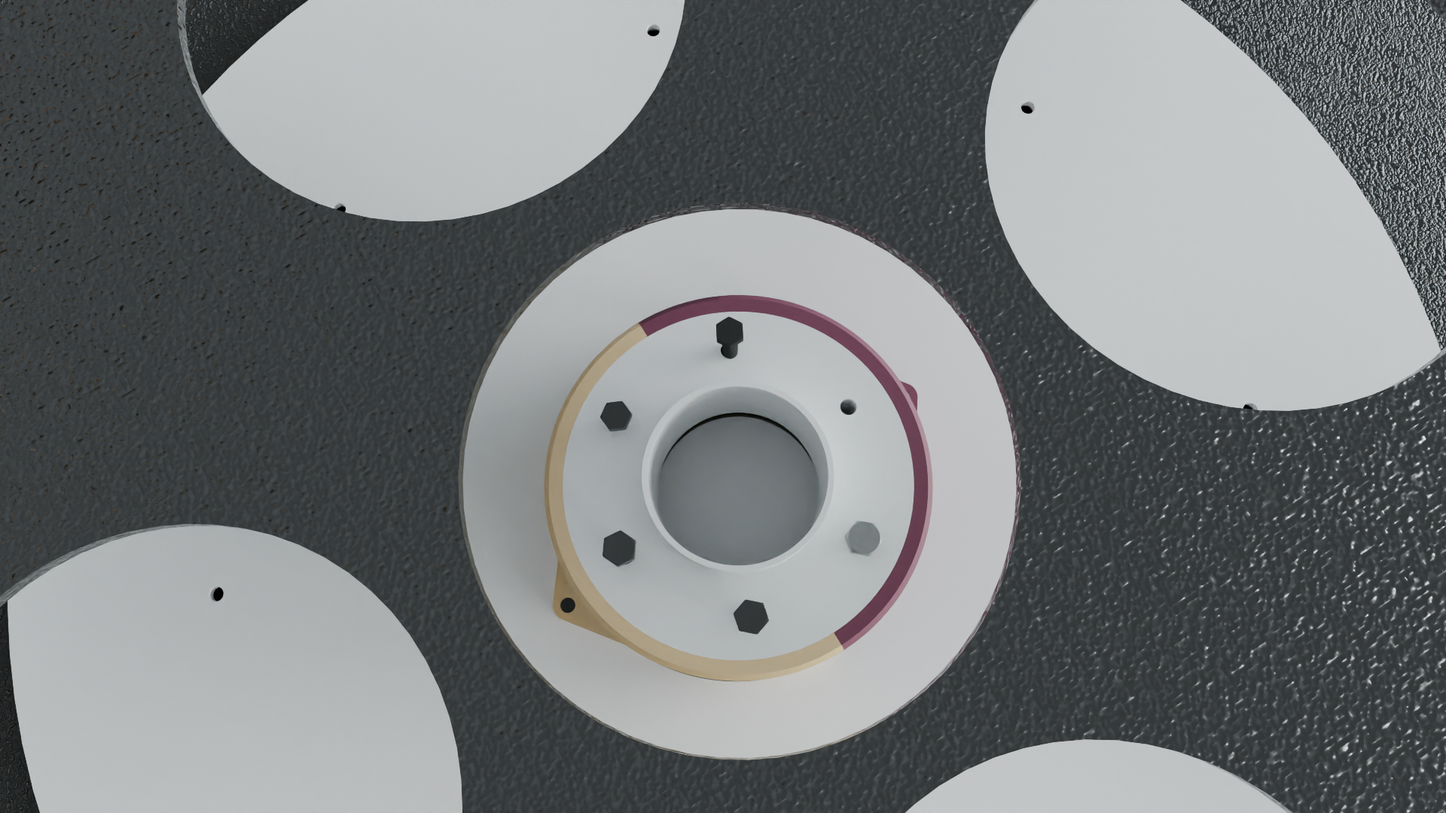bolt: (846, 521, 882, 556), (734, 599, 769, 635), (602, 530, 636, 566), (600, 401, 631, 430), (716, 316, 743, 346)
